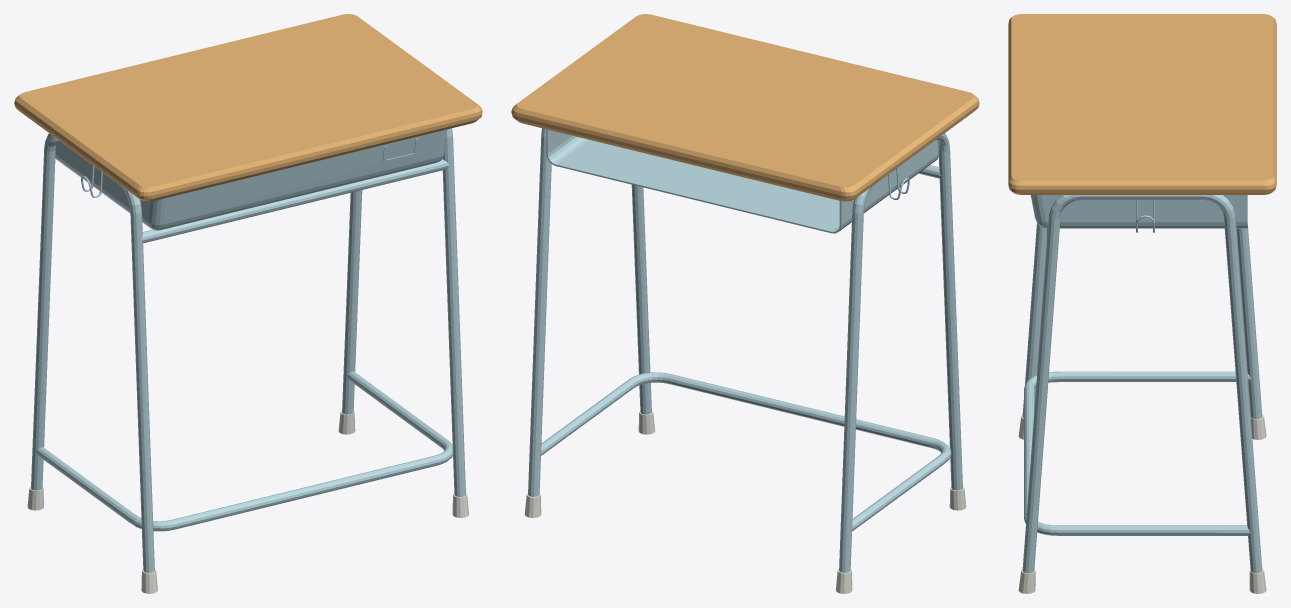
File: SchoolDesk.fbx
The picture shows the model from 3 angles, left to right: view 1: azimuth 30°, elevation 25°; view 2: azimuth 150°, elevation 25°; view 3: azimuth 270°, elevation 25°; orthographic projection.
Visible parts, largest first — view 1: School Dask.001; view 2: School Dask.001; view 3: School Dask.001.
Part boxes in pixels (x1,y1,x2,y2): School Dask.001: (14,14,482,593); School Dask.001: (511,14,979,593); School Dask.001: (1008,14,1276,593).
Size of the model in its own units: 40.96 by 61.61 by 70.16.
